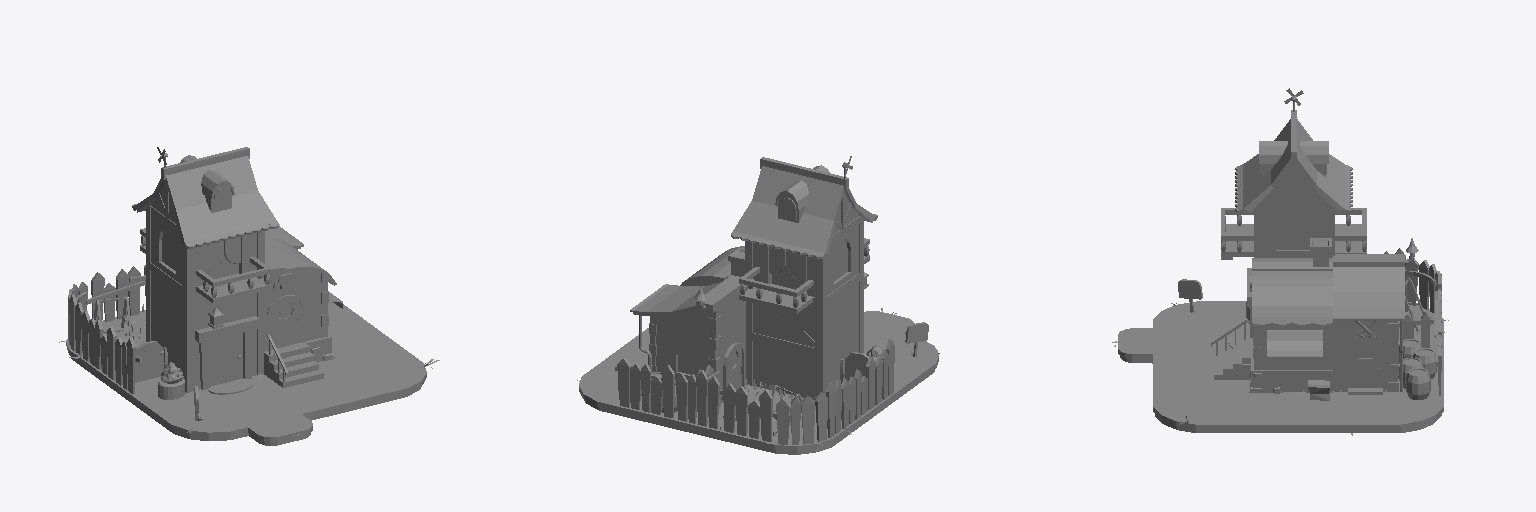
File: house.obj
The picture shows the model from 3 angles: view 1: azimuth 30°, elevation 25°; view 2: azimuth 150°, elevation 25°; view 3: azimuth 270°, elevation 25°; orthographic projection.
Visible parts, largest first — view 1: miniHouse_Part1, miniHouse_Part4, miniHouse_Part2, miniHouse_Part3; view 2: miniHouse_Part1, miniHouse_Part3, miniHouse_Part4, miniHouse_Part2; view 3: miniHouse_Part4, miniHouse_Part1, miniHouse_Part2, miniHouse_Part3.
Part boxes in pixels (left/top/right/bottom): miniHouse_Part1: left=132, top=147, right=279, bottom=399; miniHouse_Part4: left=66, top=300, right=426, bottom=445; miniHouse_Part2: left=94, top=237, right=342, bottom=387; miniHouse_Part3: left=68, top=226, right=303, bottom=393; miniHouse_Part1: left=731, top=157, right=881, bottom=399; miniHouse_Part3: left=615, top=275, right=894, bottom=444; miniHouse_Part4: left=579, top=311, right=938, bottom=454; miniHouse_Part2: left=649, top=246, right=801, bottom=426; miniHouse_Part4: left=1118, top=279, right=1443, bottom=432; miniHouse_Part1: left=1221, top=96, right=1366, bottom=348; miniHouse_Part2: left=1211, top=238, right=1424, bottom=400; miniHouse_Part3: left=1333, top=238, right=1441, bottom=399.
Size of the model in its own units: 1373 by 1203 by 1479.